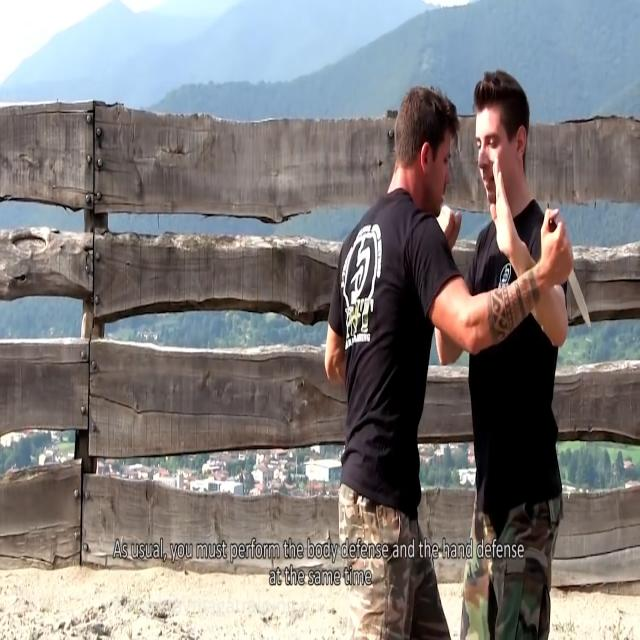knife: (547, 216, 595, 336)
